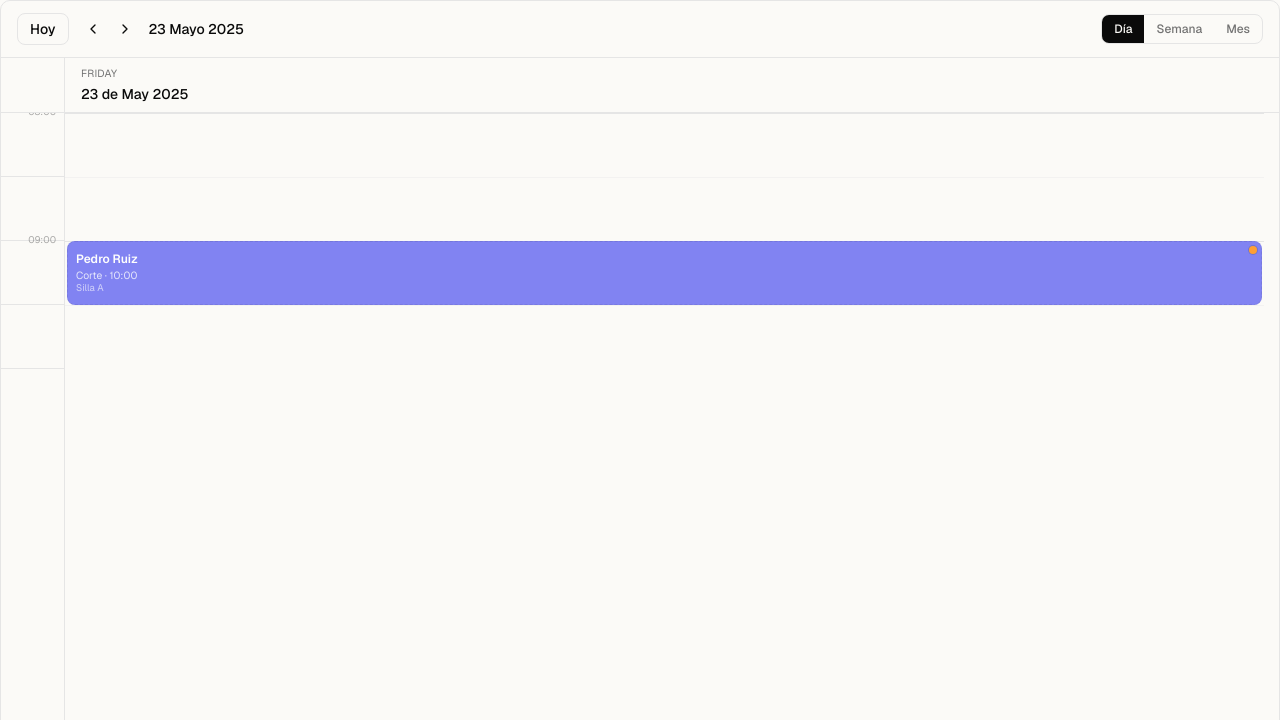
Test case: CalendarView — sheet de detalle de reserva › abre el sheet al hacer clic en un evento
The image size is (1280, 720).
Step 1. Click the text "Pedro Ruiz" → (107, 259), box [76,251,138,267]
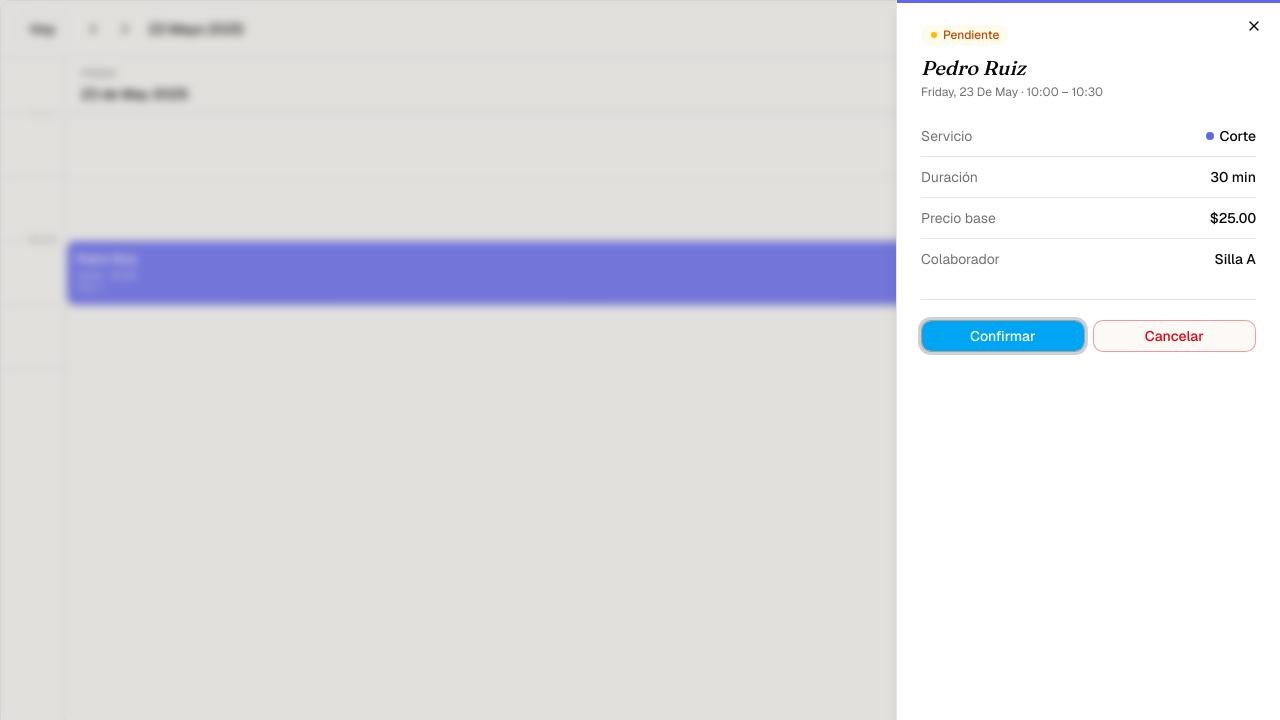
Expected: the dialog is shown, [896,0,1279,719]
